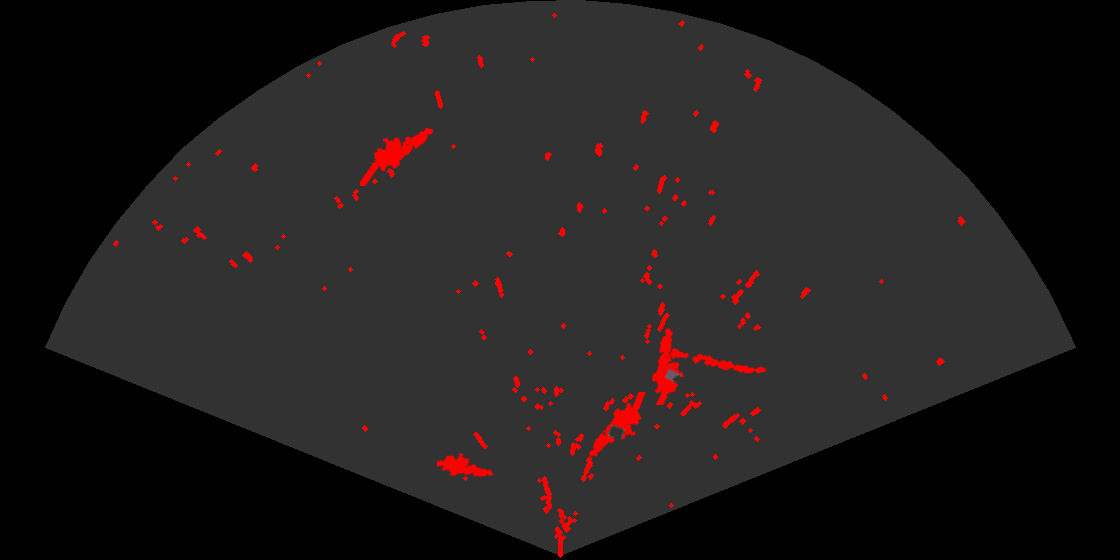chain: (668, 347, 768, 375)
frogman: (360, 126, 435, 186), (588, 392, 647, 458), (650, 326, 685, 405), (437, 451, 495, 479)
